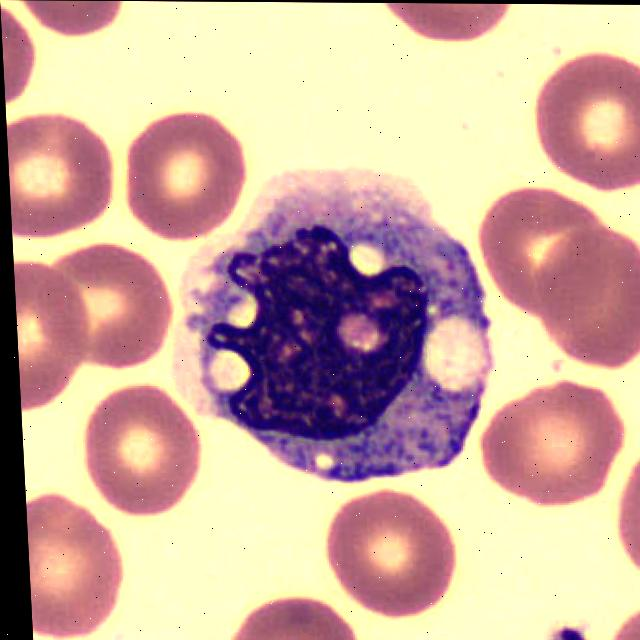monocyte: (163, 162, 521, 494)
platelets: (541, 622, 595, 640)
rbc: (468, 180, 611, 320), (319, 485, 470, 617), (481, 377, 621, 517), (39, 240, 187, 370), (25, 482, 133, 640), (119, 112, 244, 243), (533, 222, 640, 375), (84, 386, 207, 507), (534, 53, 640, 186), (6, 114, 112, 236), (14, 261, 96, 413), (216, 587, 359, 640), (373, 3, 513, 47), (16, 0, 154, 44), (0, 0, 41, 106), (612, 444, 640, 581), (593, 599, 640, 640)
